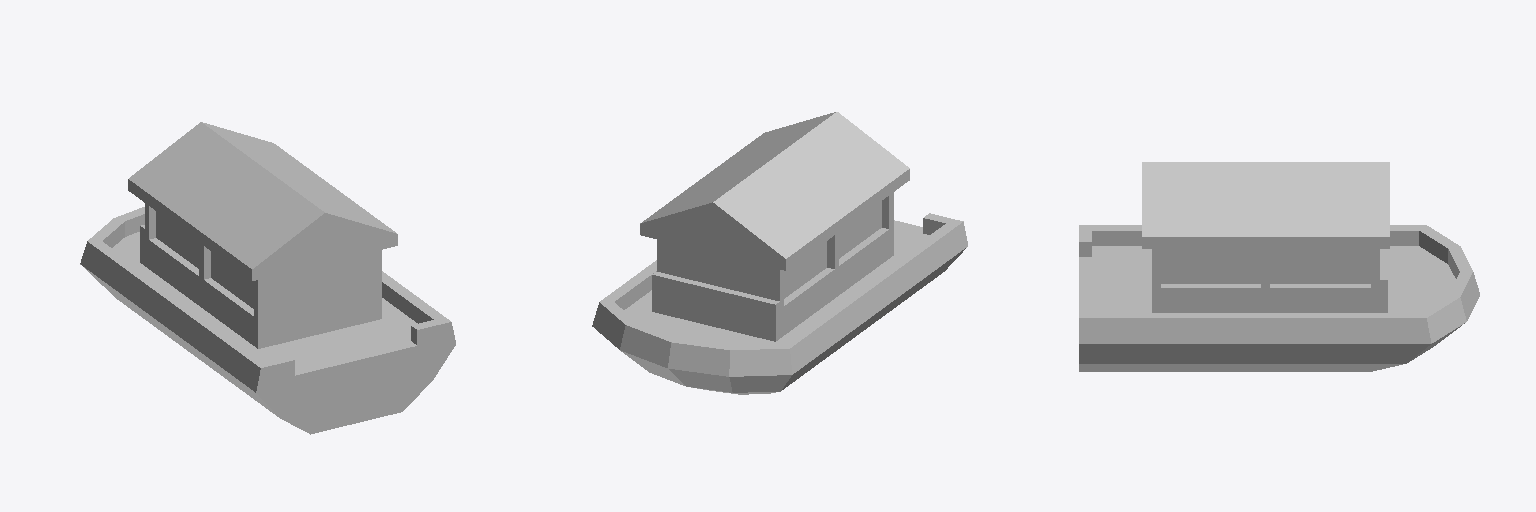
The model's file is boat_025.obj.
3 views of the same model, side by side, from view 1: azimuth 30°, elevation 25°; view 2: azimuth 150°, elevation 25°; view 3: azimuth 270°, elevation 25° (orthographic).
Parts seen in each view (by area): view 1: boat_025; view 2: boat_025; view 3: boat_025.
Part boxes in pixels (x1,y1,x2,y2): boat_025: (80, 122, 455, 434); boat_025: (592, 112, 967, 394); boat_025: (1079, 162, 1479, 371).
Size of the model in its own units: 2.68 by 2.4 by 4.64.